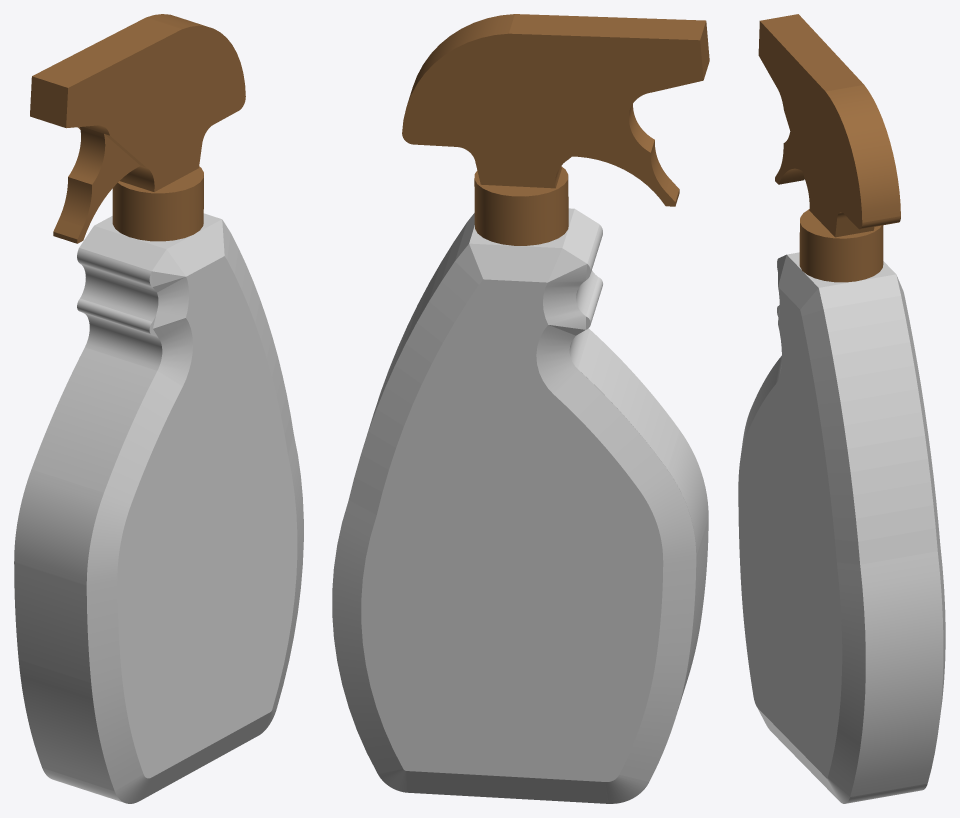
The picture shows the model from 3 angles, left to right: view 1: azimuth 30°, elevation 25°; view 2: azimuth 150°, elevation 25°; view 3: azimuth 270°, elevation 25°; orthographic projection. The views are drawn at different scales.
Parts seen in each view (by area): view 1: mesh7_mesh7-geometry, mesh1_mesh1-geometry; view 2: mesh7_mesh7-geometry, mesh1_mesh1-geometry; view 3: mesh7_mesh7-geometry, mesh1_mesh1-geometry.
Part boxes in pixels (left/top/right/bottom): mesh7_mesh7-geometry: left=14, top=213, right=303, bottom=803; mesh1_mesh1-geometry: left=30, top=14, right=245, bottom=243; mesh7_mesh7-geometry: left=332, top=208, right=708, bottom=803; mesh1_mesh1-geometry: left=402, top=14, right=709, bottom=245; mesh7_mesh7-geometry: left=738, top=252, right=945, bottom=803; mesh1_mesh1-geometry: left=758, top=14, right=900, bottom=282.
Size of the model in its own units: 0.3966 by 0.8845 by 0.2457.
